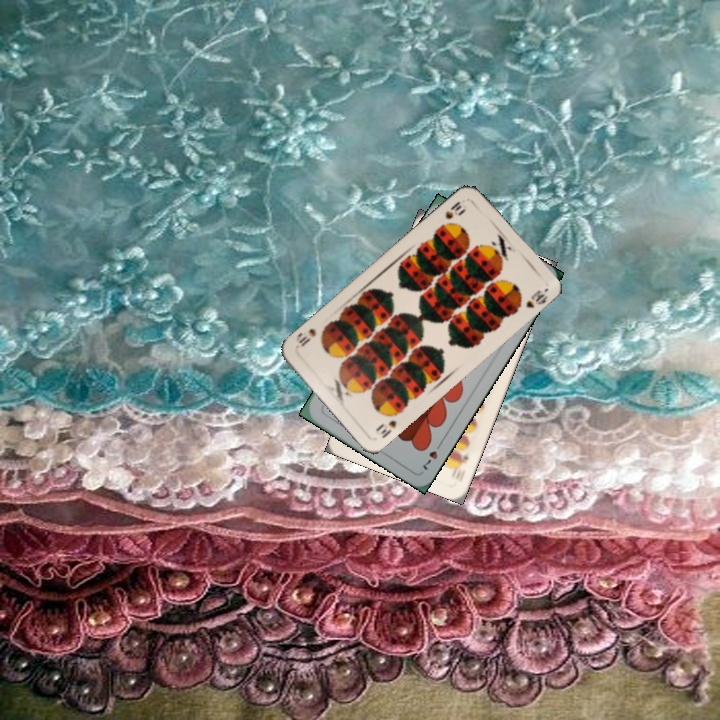E10: (452, 450, 471, 481)
H7: (419, 437, 445, 473)
S10: (372, 407, 403, 441), (441, 197, 469, 222)
